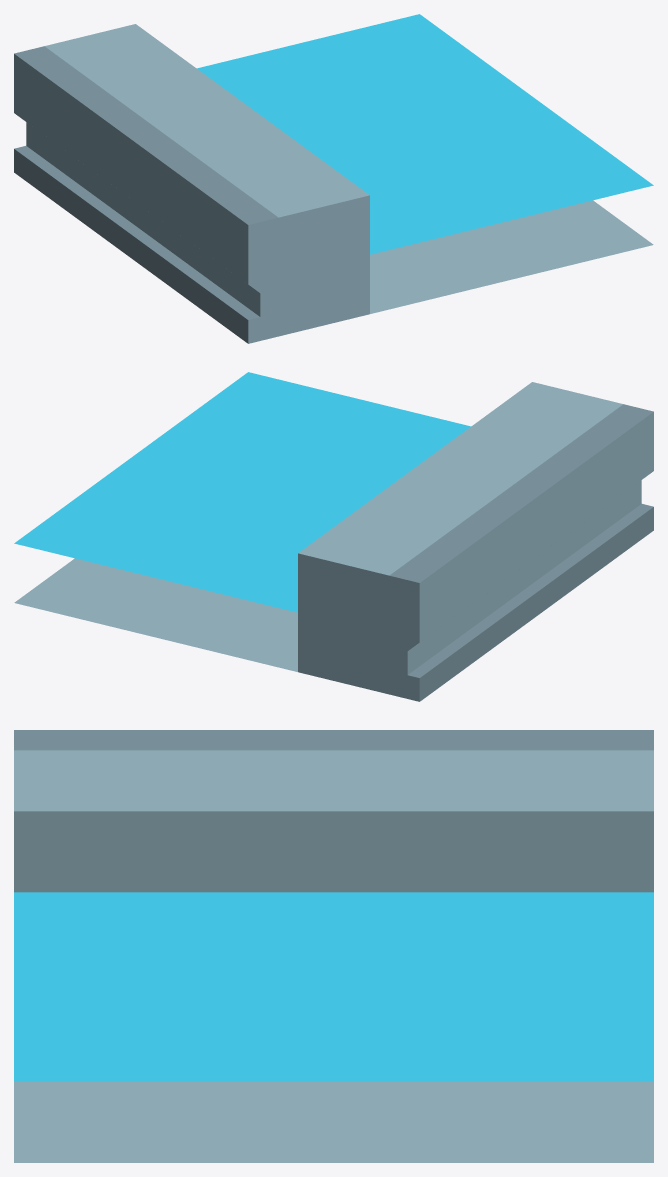
File: fountainEdge.obj
3 renders of one model, top to bottom at view 1: azimuth 30°, elevation 25°; view 2: azimuth 150°, elevation 25°; view 3: azimuth 270°, elevation 25°, orthographic. The views are drawn at different scales.
Visible parts, largest first — view 1: fountainEdge; view 2: fountainEdge; view 3: fountainEdge.
Boxes of the visible parts, bbox=[...] form: fountainEdge: bbox=[14, 14, 653, 343]; fountainEdge: bbox=[14, 372, 653, 701]; fountainEdge: bbox=[14, 730, 653, 1162].
Size of the model in its own units: 1 by 0.28 by 1.
